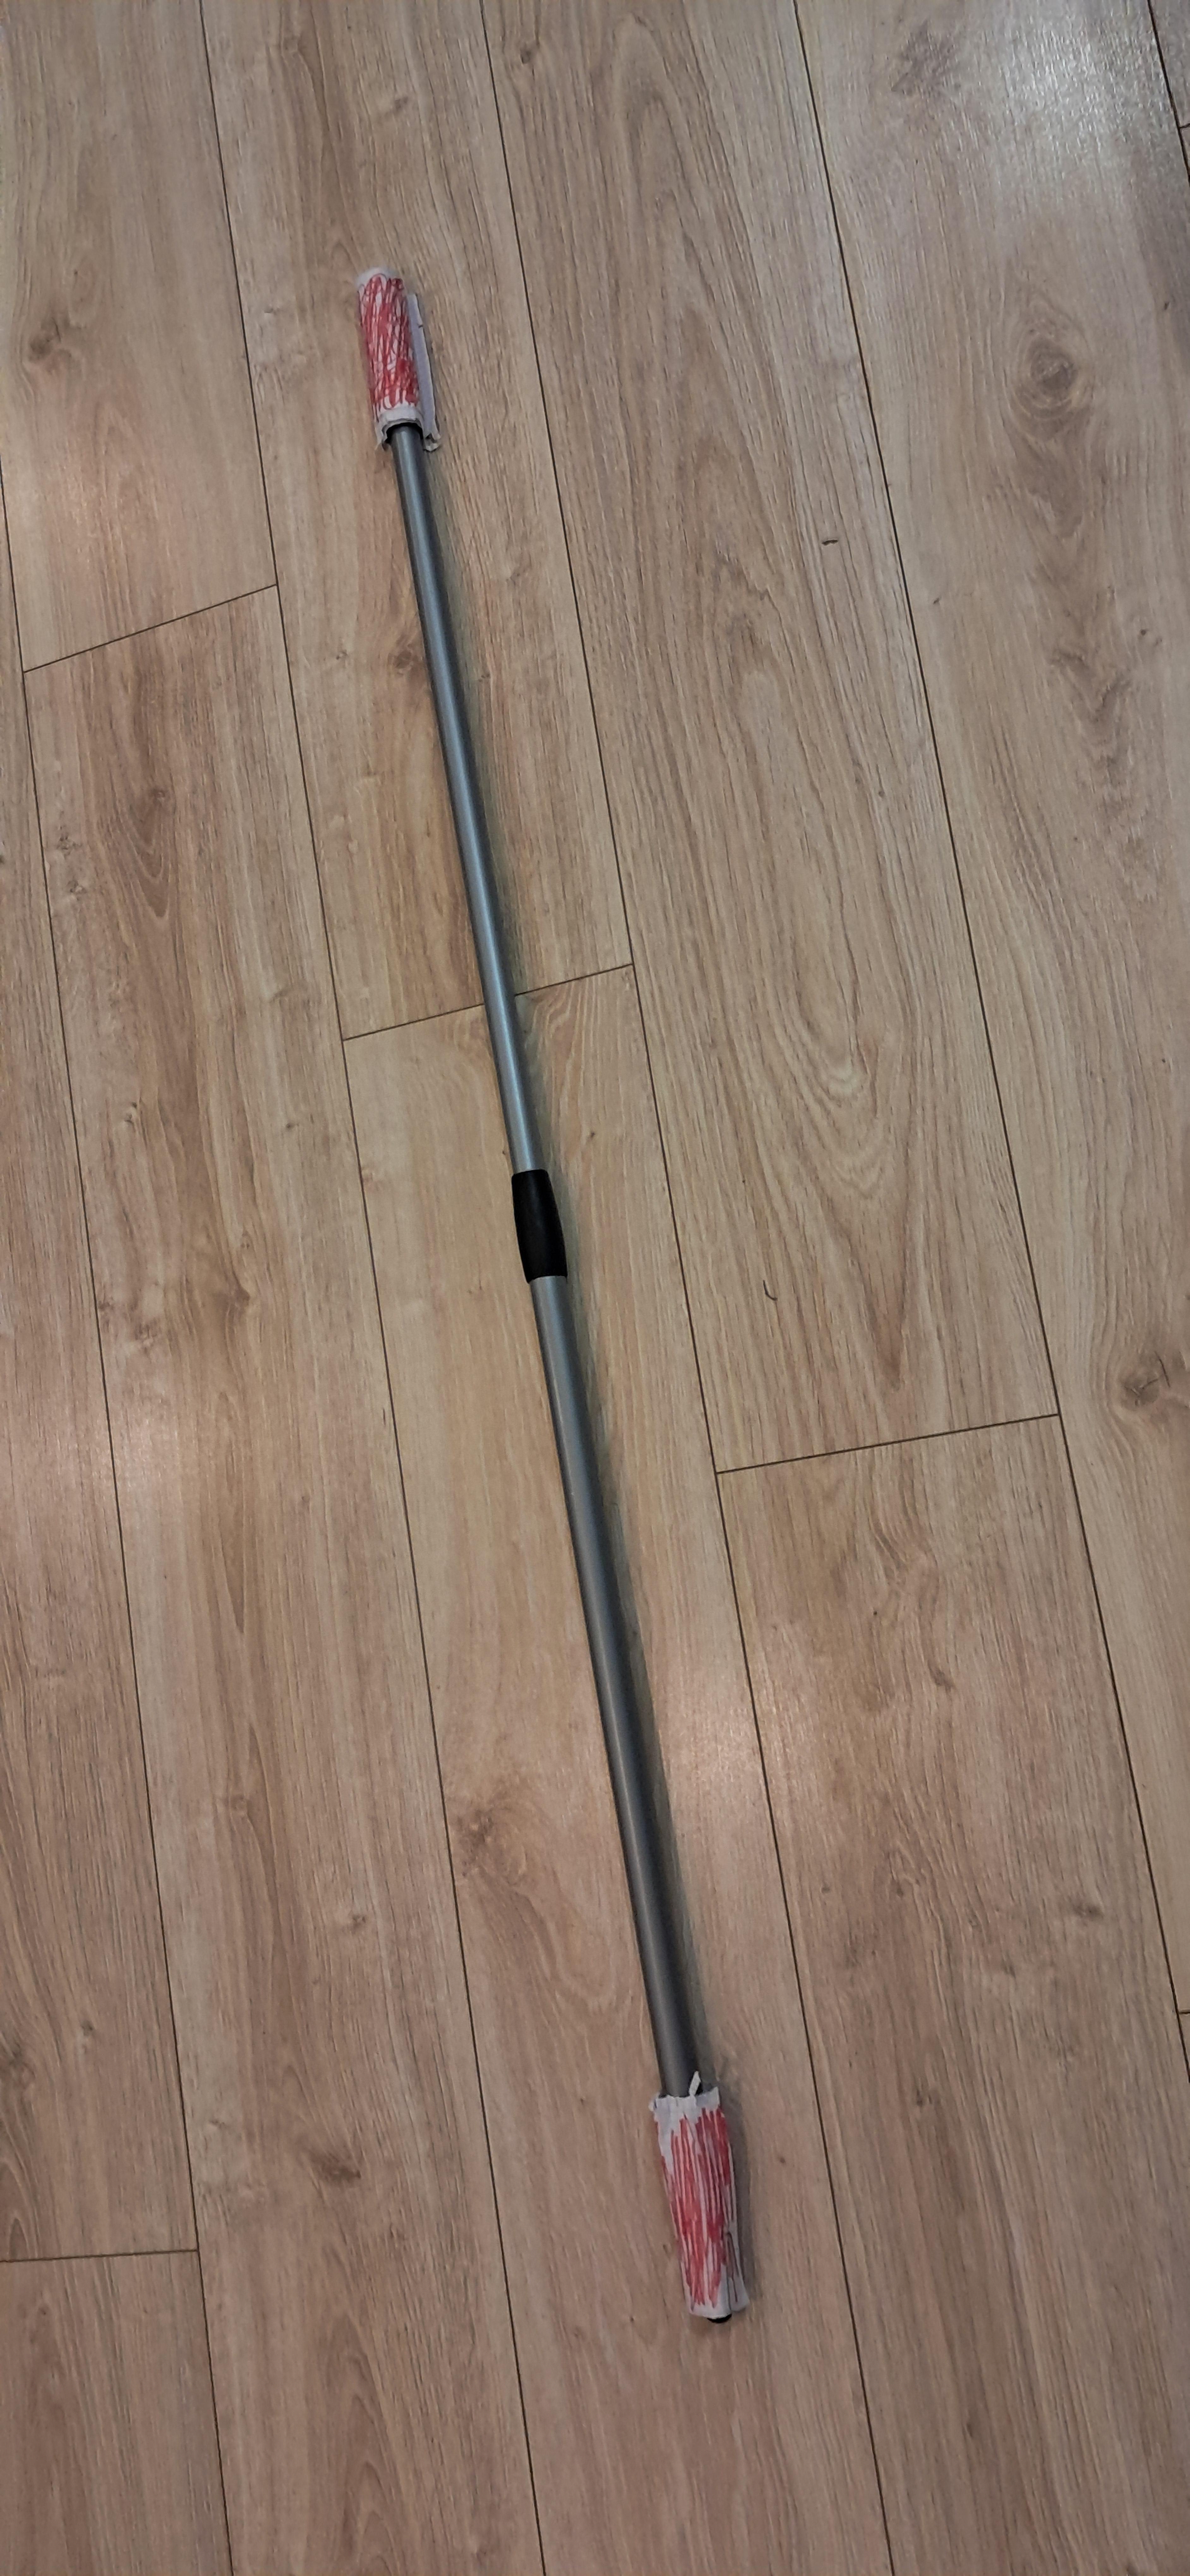broom-handle: (358, 269, 746, 2318)
